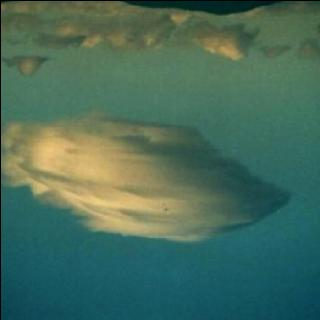Altocumulus: (0, 105, 292, 259), (0, 5, 320, 96)
